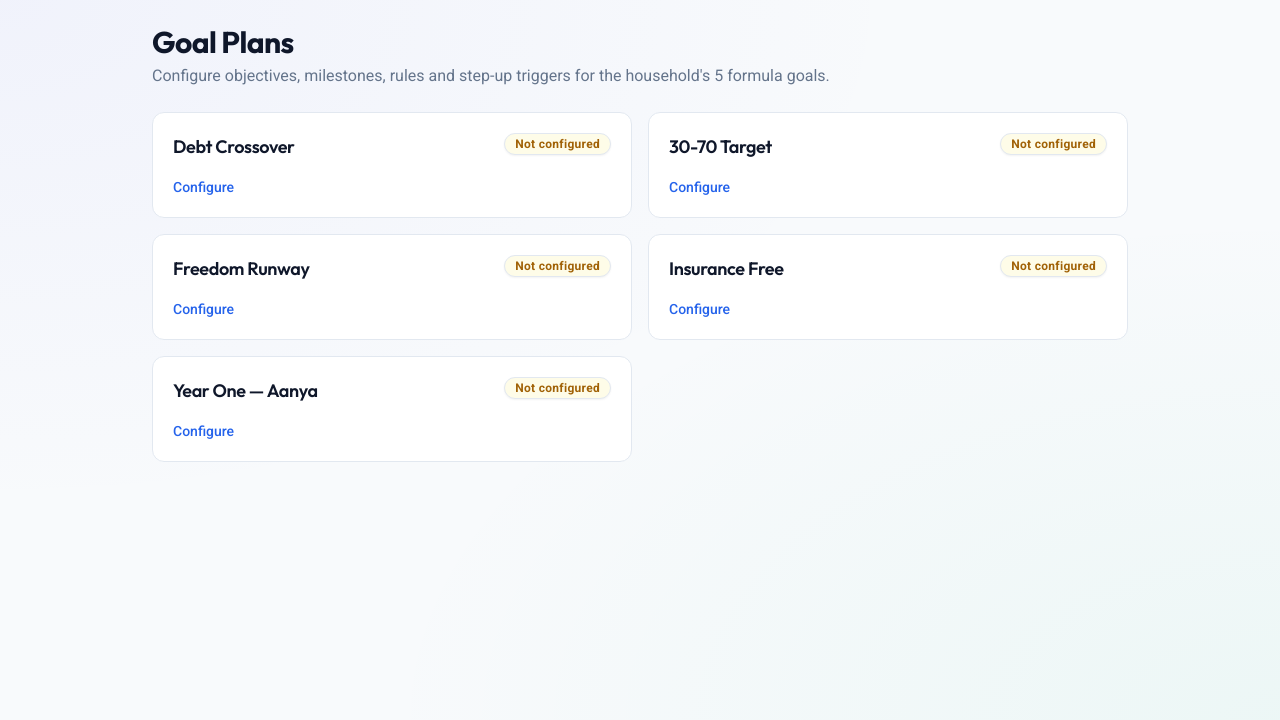
Test: GoalPlans page › opens the Year One configure form with education fields for a configured child
Check: the heading "Year One — Aanya" is shown, box [173, 377, 318, 405]
Click the button "Configure" below "Year One — Aanya" at (204, 431), box [173, 421, 234, 441]
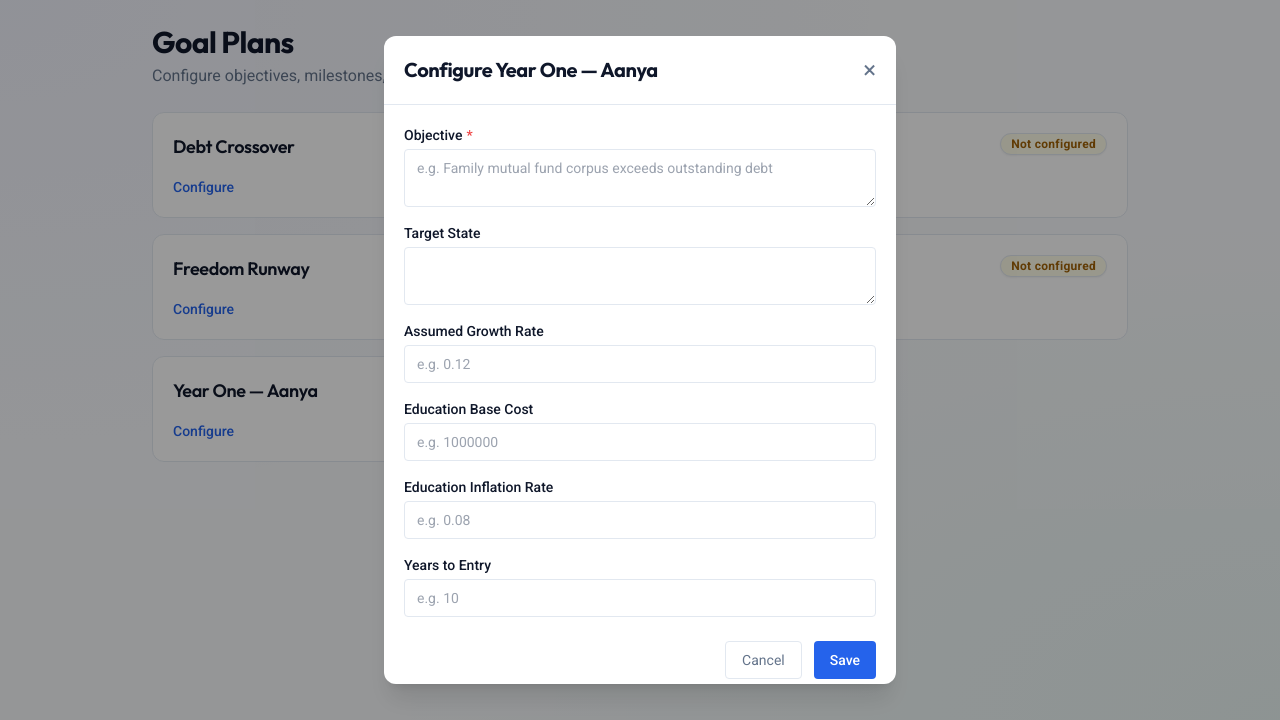
Check: the heading "Configure Year One — Aanya" is shown, box [404, 56, 658, 84]
Check: the number field with placeholder "e.g. 1000000" is shown, box [404, 423, 876, 461]
